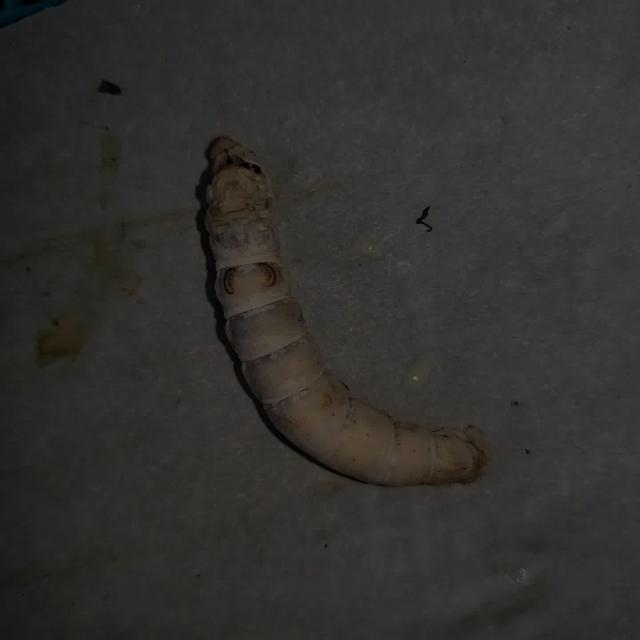Grasserie: (180, 111, 492, 507)
